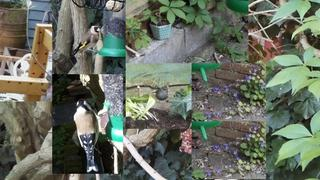goldfinch: (73, 98, 99, 173), (71, 24, 102, 57)
sparrow: (152, 87, 168, 102)
